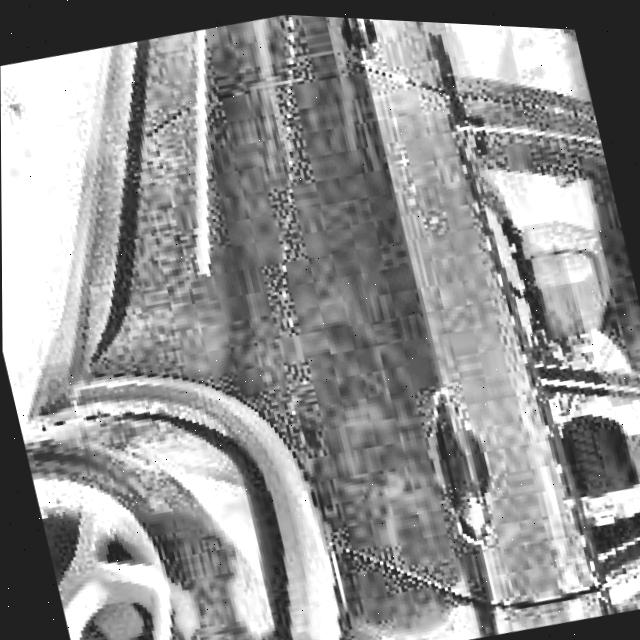door_scratch: (216, 11, 394, 434)
